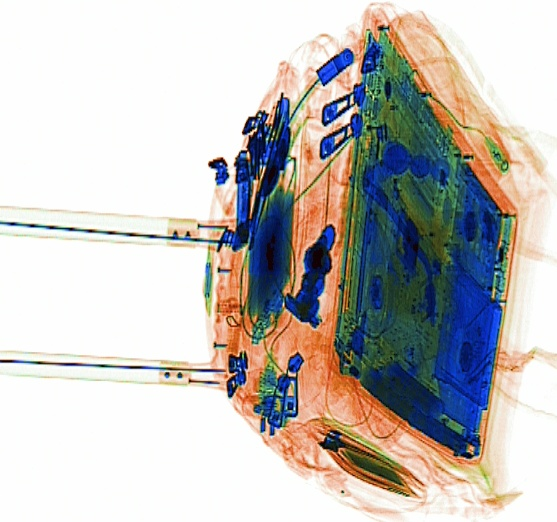powerbank: (240, 176, 298, 346)
